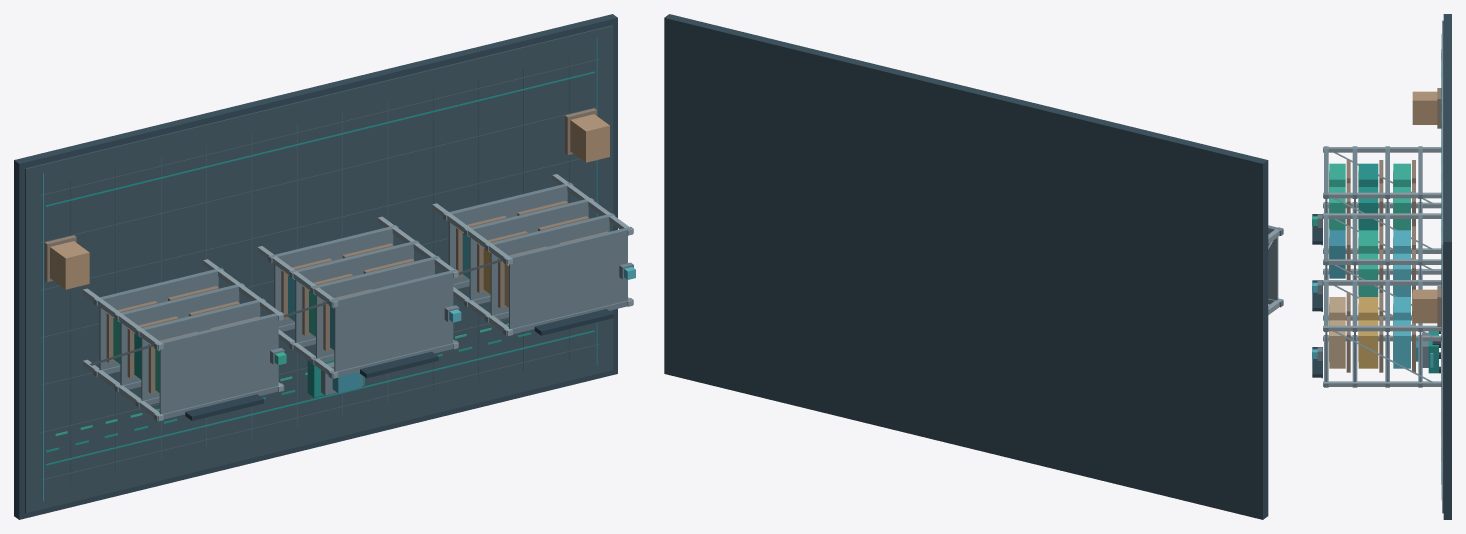
Rendered from masan_wms_warehouse.glb.
3 views of the same model, side by side, from view 1: azimuth 30°, elevation 25°; view 2: azimuth 150°, elevation 25°; view 3: azimuth 270°, elevation 25° (orthographic). The views are drawn at different scales.
Parts seen in each view (by area): view 1: warehouse_floor_1, warehouse_plinth_0, rack_R01_shelf_59, rack_R02_shelf_105, rack_R03_shelf_147, rack_R01_shelf_50, dock_crate_210, rack_R03_shelf_141, dock_crate_208, rack_R01_shelf_53, rack_R02_shelf_99, rack_R02_shelf_102 (+31 smaller); view 2: warehouse_plinth_0; view 3: warehouse_plinth_0, warehouse_floor_1, dock_crate_210, carton_R03_165, dock_crate_208, carton_R03_157, rack_R03_upright_135, carton_R02_127, carton_R03_173, rack_R01_upright_47, carton_R01_77, carton_R02_123 (+49 smaller).
Part boxes in pixels (<box>): warehouse_floor_1: <box>25,25,613,513</box>; warehouse_plinth_0: <box>14,14,617,519</box>; rack_R01_shelf_59: <box>159,320,278,414</box>; rack_R02_shelf_105: <box>334,278,453,371</box>; rack_R03_shelf_147: <box>509,235,627,328</box>; rack_R01_shelf_50: <box>99,276,218,370</box>; dock_crate_210: <box>570,114,609,162</box>; rack_R03_shelf_141: <box>469,206,588,300</box>; dock_crate_208: <box>50,241,89,289</box>; rack_R01_shelf_53: <box>120,291,239,385</box>; rack_R02_shelf_99: <box>295,249,413,342</box>; rack_R02_shelf_102: <box>316,264,434,358</box>; warehouse_plinth_0: <box>664,14,1268,519</box>; warehouse_plinth_0: <box>1443,14,1451,519</box>; warehouse_floor_1: <box>1442,20,1443,513</box>; dock_crate_210: <box>1412,289,1437,323</box>; carton_R03_165: <box>1358,320,1378,368</box>; dock_crate_208: <box>1412,91,1437,124</box>; carton_R03_157: <box>1393,320,1410,368</box>; rack_R03_upright_135: <box>1323,325,1441,331</box>; carton_R02_127: <box>1329,230,1345,278</box>; carton_R03_173: <box>1329,320,1345,368</box>; rack_R01_upright_47: <box>1323,192,1441,198</box>; carton_R01_77: <box>1358,187,1378,230</box>; carton_R02_123: <box>1358,253,1378,296</box>.
Bounding box in the file's own units: 13.2 × 7.5 × 3.42.
